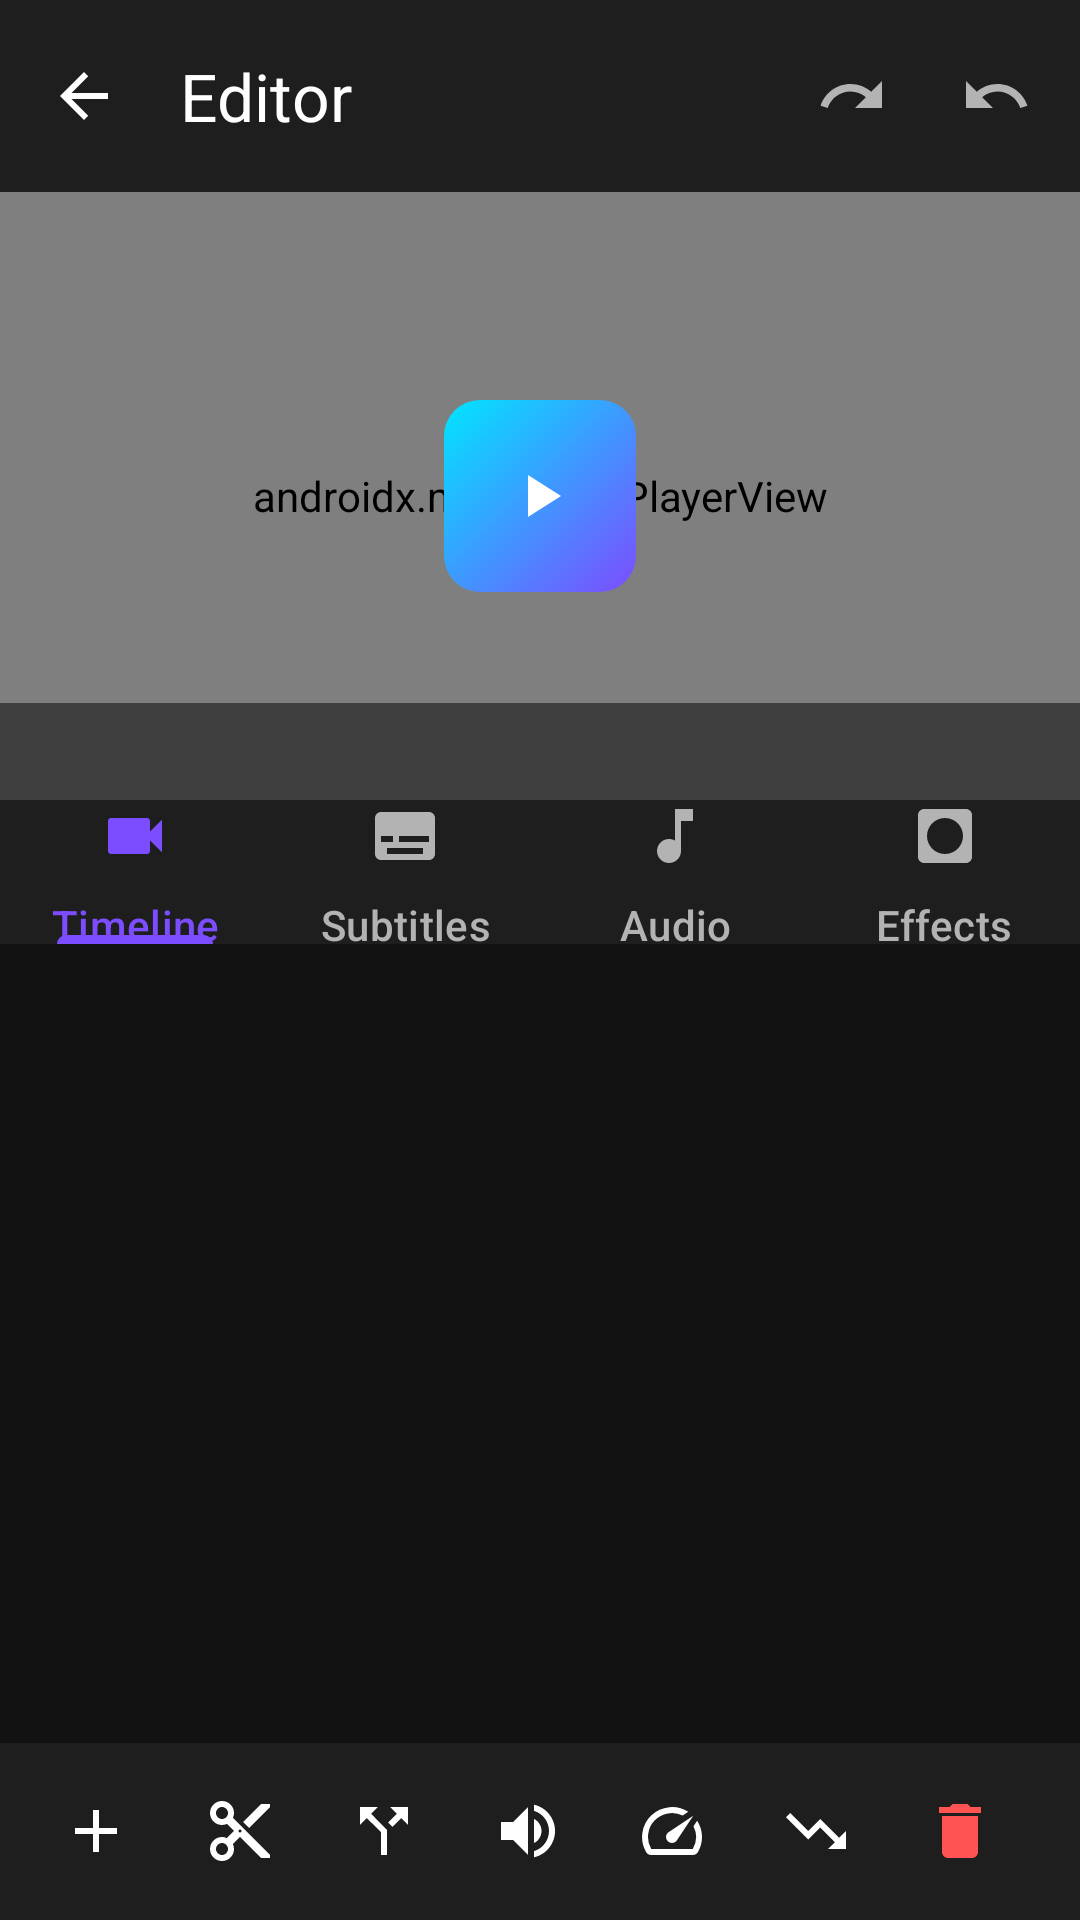

Locate icon controls on the screen. Image size 1080px×1920px, boxes as [x1,y1,x2,y2].
Add Clip: [75,1810,117,1852]
Delete: [939,1804,981,1858]
Play or pause video: [444,400,636,592]
Redo: [820,81,882,108]
Speed: [642,1807,702,1855]
Split: [360,1807,408,1855]
Trim: [210,1801,270,1861]
Undo: [966,81,1028,108]
Volume: [501,1804,555,1858]
